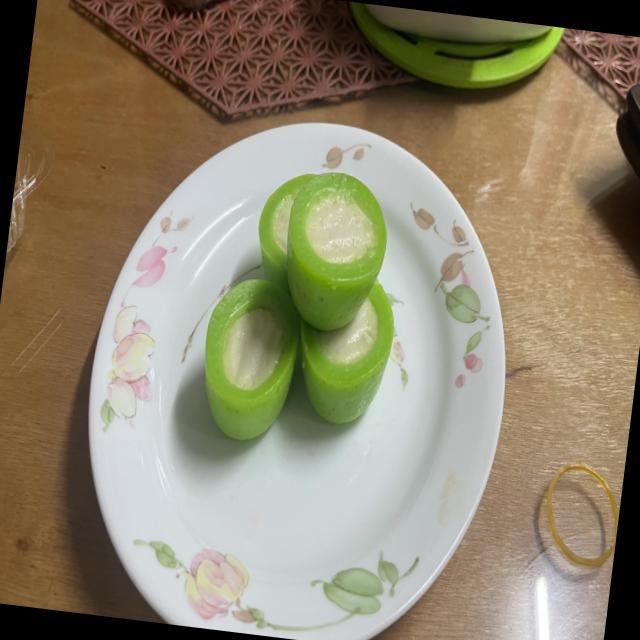nona-manis: (286, 172, 386, 330), (204, 278, 300, 439), (300, 280, 394, 423), (258, 173, 314, 294)
